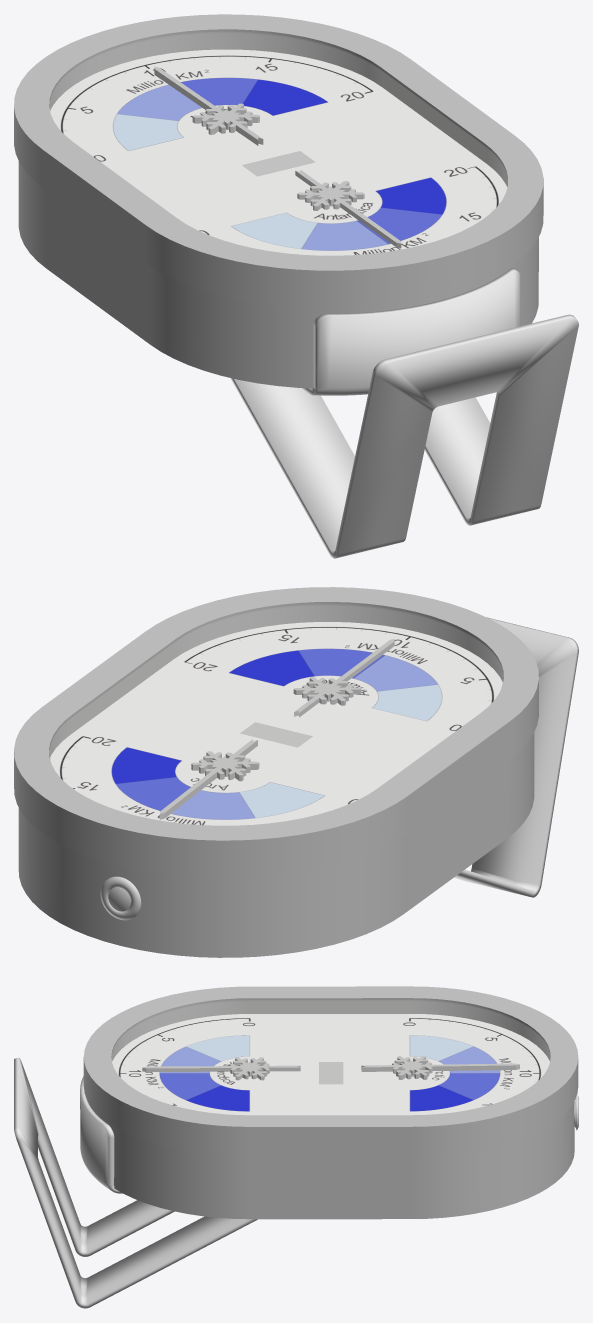
Rendered from ice_gauge_dial_rev.fbx.
The picture shows the model from 3 angles, top to bottom: view 1: azimuth 30°, elevation 25°; view 2: azimuth 150°, elevation 25°; view 3: azimuth 270°, elevation 25°; orthographic projection. The views are drawn at different scales.
Parts seen in each view (by area): view 1: Body1.005, Body1.006, stand_v4 v2, Body1.004, Body1, Body5, Body6, Body1.007; view 2: Body1.005, Body1.006, Body1.004, Body1, stand_v4 v2, Body5, Body6, Moai 130_Power Switch v3 v1, Body1.007; view 3: Body1.005, Body1.004, Body1.006, Body1, stand_v4 v2, Body5, Body6, Body1.007.
Part boxes in pixels (bbox=[...]): Body1.005: bbox=[50, 32, 507, 254]; Body1.006: bbox=[50, 49, 507, 255]; stand_v4 v2: bbox=[230, 268, 578, 558]; Body1.004: bbox=[14, 14, 543, 308]; Body1: bbox=[18, 161, 538, 388]; Body5: bbox=[154, 66, 263, 145]; Body6: bbox=[295, 170, 401, 248]; Body1.007: bbox=[242, 151, 315, 176]; Body1.005: bbox=[50, 605, 502, 824]; Body1.006: bbox=[50, 622, 502, 825]; Body1.004: bbox=[14, 587, 538, 877]; Body1: bbox=[18, 732, 534, 957]; stand_v4 v2: bbox=[454, 617, 578, 897]; Body5: bbox=[160, 739, 259, 819]; Body6: bbox=[293, 639, 394, 717]; Moai 130_Power Switch v3 v1: bbox=[100, 876, 141, 920]; Body1.007: bbox=[240, 722, 312, 747]; Body1.005: bbox=[112, 1000, 549, 1114]; Body1.004: bbox=[83, 986, 578, 1156]; Body1.006: bbox=[112, 1014, 549, 1115]; Body1: bbox=[87, 1101, 574, 1219]; stand_v4 v2: bbox=[14, 1057, 257, 1308]; Body5: bbox=[361, 1056, 519, 1079]; Body6: bbox=[142, 1057, 300, 1080]; Body1.007: bbox=[319, 1062, 343, 1084].
Bounding box in the file's own units: 16.36 × 11.65 × 27.83.
3 materials, 1 textured.
